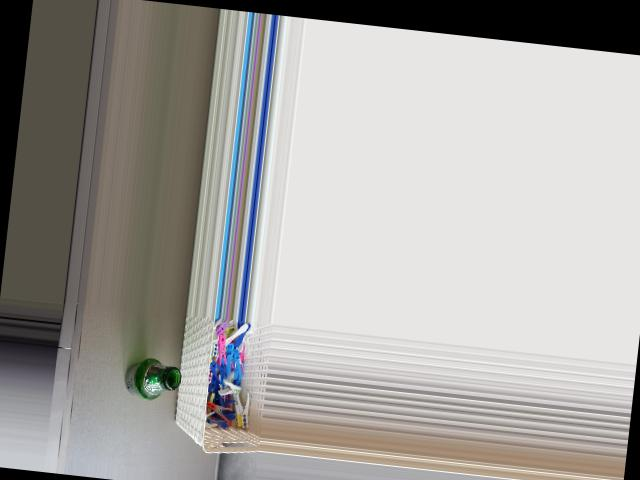beer: (122, 355, 182, 403)
